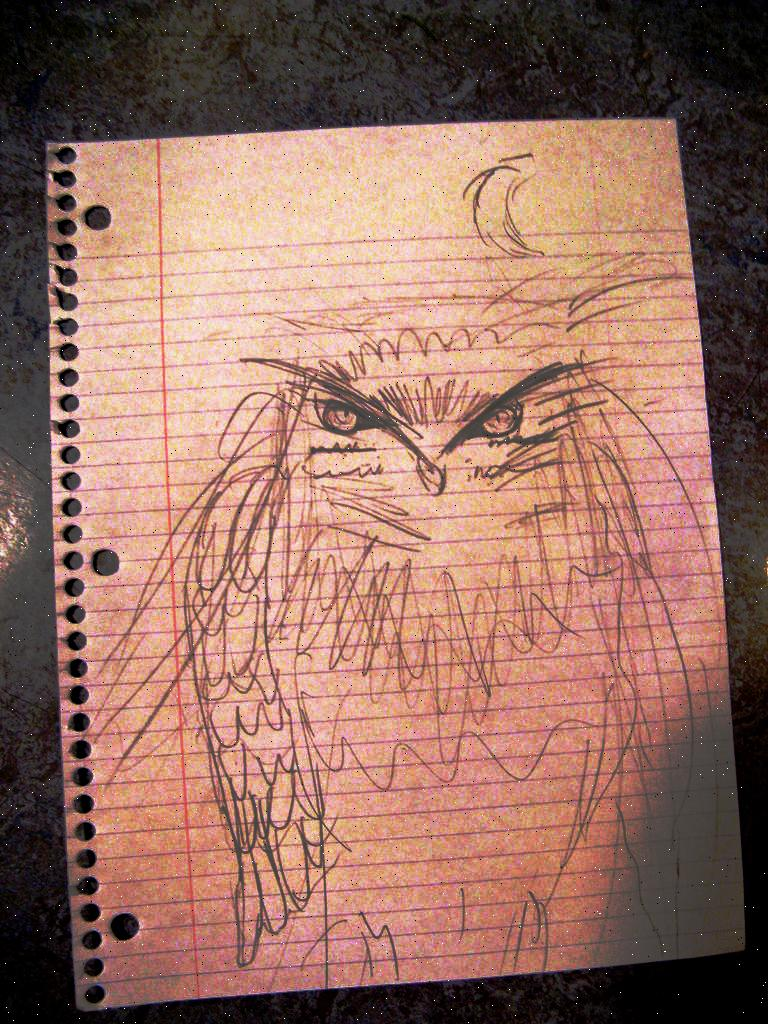Owl: (100, 312, 712, 984)
